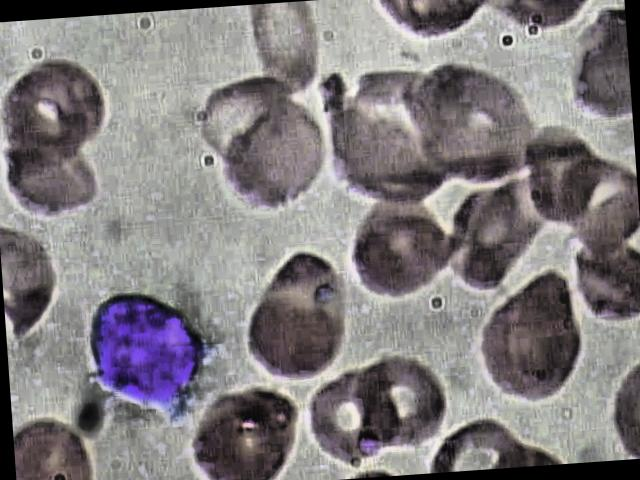RBC: (472, 266, 603, 407), (238, 244, 354, 388), (207, 97, 336, 223), (344, 185, 472, 307), (0, 55, 119, 160), (188, 381, 304, 480), (350, 355, 450, 457), (300, 368, 400, 470), (0, 135, 98, 233), (556, 4, 632, 126), (0, 220, 72, 344), (240, 0, 326, 100), (570, 233, 640, 330), (11, 410, 95, 480)
WBC: (70, 274, 228, 421)
